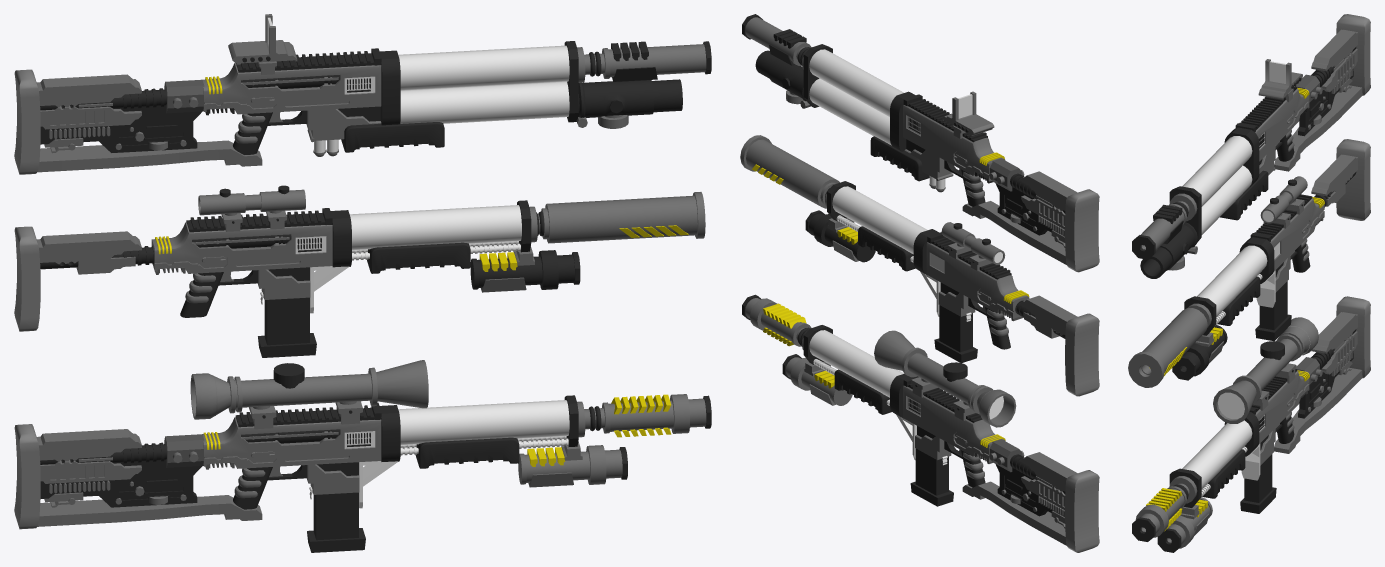
The model's file is GUN.fbx.
3 views of the same model, side by side, from view 1: azimuth 30°, elevation 25°; view 2: azimuth 150°, elevation 25°; view 3: azimuth 270°, elevation 25° (orthographic). The views are drawn at different scales.
Visible parts, largest first — view 1: Cylinder.040, Cylinder.057, Cylinder.006, Cube.061, Cube, Cylinder.056, Cube.037, Cylinder.032, Cylinder.007, Cube.039, Cube.002, Cube.043 (+36 smaller); view 2: Cylinder.040, Cube.061, Cylinder.057, Cube, Cube.037, Cylinder.056, Cylinder.006, Cube.086, Cube.045, Cube.008, Cylinder.032, Cylinder.007 (+32 smaller); view 3: Cylinder.040, Cylinder.057, Cylinder.056, Cylinder.006, Cube.086, Cylinder.032, Cube.002, Cube.039, Cube.043, Cube.006, Cube.061, Cube (+46 smaller).
Boxes of the visible parts, x1=… form: Cylinder.040: x1=190, y1=360, x2=428, y2=419; Cylinder.057: x1=529, y1=192, x2=705, y2=243; Cylinder.006: x1=398, y1=45, x2=569, y2=90; Cube.061: x1=151, y1=222, x2=332, y2=273; Cube: x1=202, y1=62, x2=381, y2=114; Cylinder.056: x1=349, y1=205, x2=521, y2=250; Cube.037: x1=202, y1=417, x2=381, y2=468; Cylinder.032: x1=398, y1=400, x2=569, y2=444; Cylinder.007: x1=400, y1=81, x2=569, y2=123; Cube.039: x1=36, y1=429, x2=141, y2=483; Cube.002: x1=36, y1=74, x2=141, y2=129; Cube.043: x1=37, y1=495, x2=262, y2=526; Cylinder.040: x1=874, y1=330, x2=1016, y2=427; Cube.061: x1=926, y1=242, x2=1029, y2=318; Cylinder.057: x1=740, y1=135, x2=839, y2=208; Cube: x1=903, y1=105, x2=1005, y2=181; Cube.037: x1=903, y1=385, x2=1005, y2=462; Cylinder.056: x1=832, y1=186, x2=927, y2=254; Cylinder.006: x1=809, y1=49, x2=903, y2=116; Cube.086: x1=1065, y1=313, x2=1099, y2=396; Cube.045: x1=1065, y1=470, x2=1099, y2=552; Cube.008: x1=1065, y1=189, x2=1099, y2=272; Cylinder.032: x1=809, y1=330, x2=903, y2=397; Cylinder.007: x1=809, y1=78, x2=891, y2=145; Cylinder.040: x1=1213, y1=317, x2=1318, y2=423; Cylinder.057: x1=1128, y1=303, x2=1211, y2=387; Cylinder.056: x1=1197, y1=245, x2=1267, y2=316; Cylinder.006: x1=1182, y1=136, x2=1252, y2=206; Cube.086: x1=1336, y1=139, x2=1370, y2=220; Cylinder.032: x1=1182, y1=420, x2=1252, y2=489; Cube.002: x1=1311, y1=29, x2=1358, y2=91; Cube.039: x1=1311, y1=312, x2=1358, y2=374; Cube.043: x1=1274, y1=367, x2=1362, y2=453; Cube.006: x1=1274, y1=85, x2=1362, y2=171; Cube.061: x1=1270, y1=197, x2=1324, y2=271; Cube: x1=1255, y1=88, x2=1309, y2=161.
Size of the model in its own units: 438 by 388 by 203.
